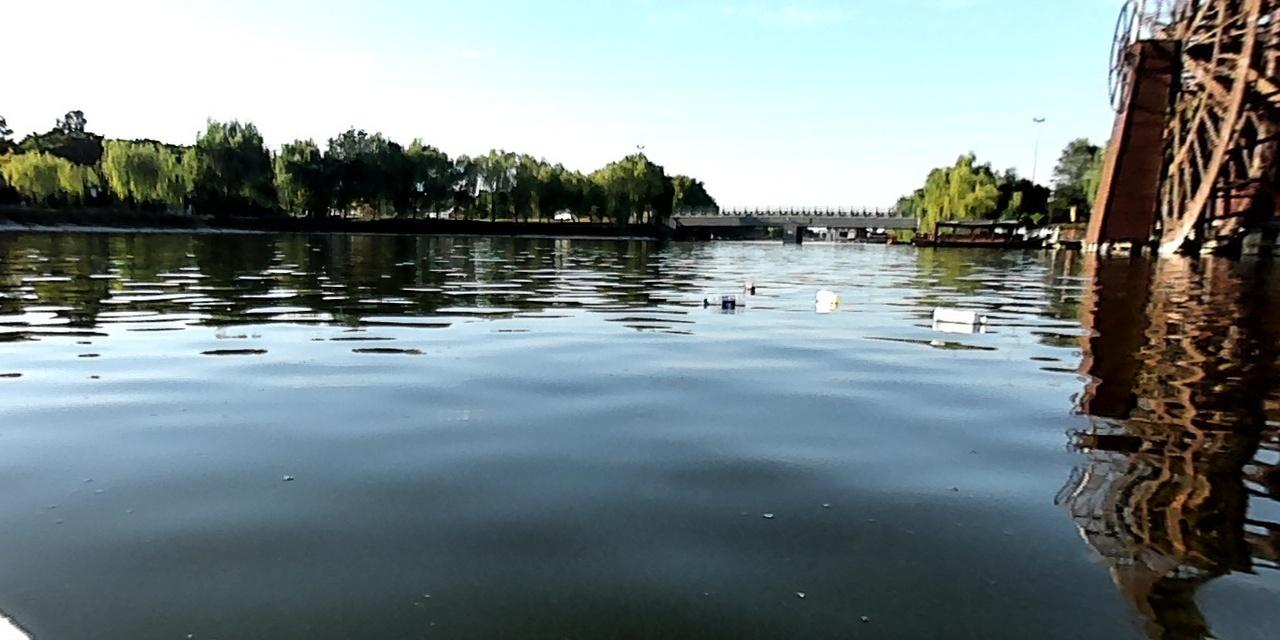bottle: (928, 301, 987, 325), (702, 292, 746, 307), (813, 284, 841, 303), (740, 272, 759, 294)
